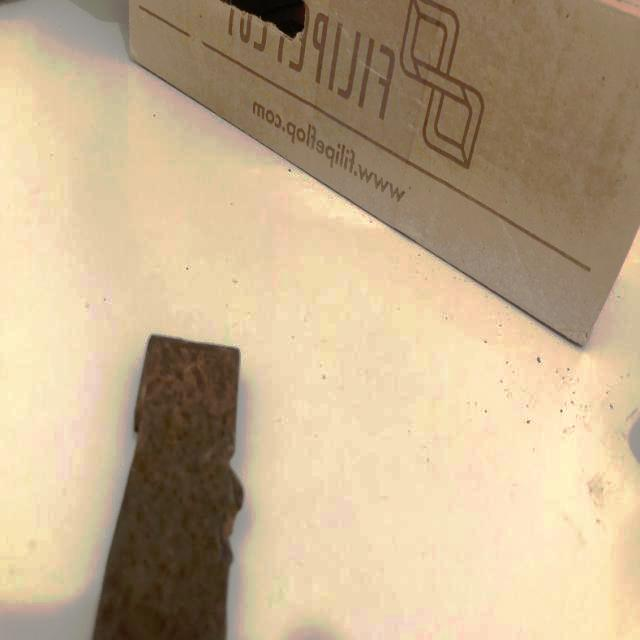Corrosion: (91, 334, 246, 640)
